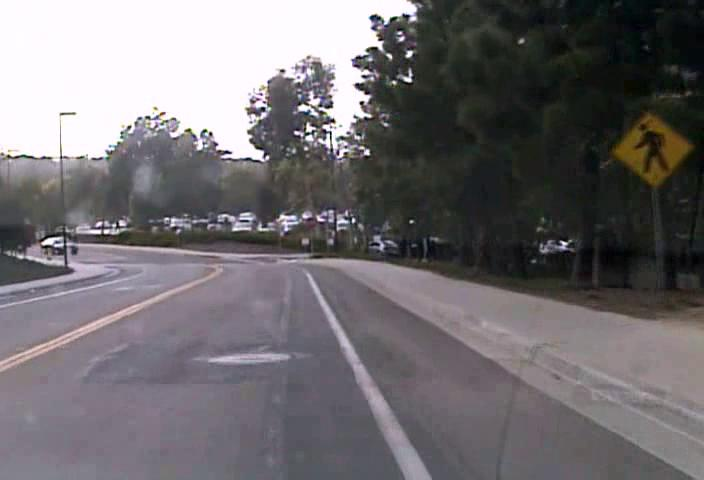pedestrianCrossing: (611, 110, 694, 188)
